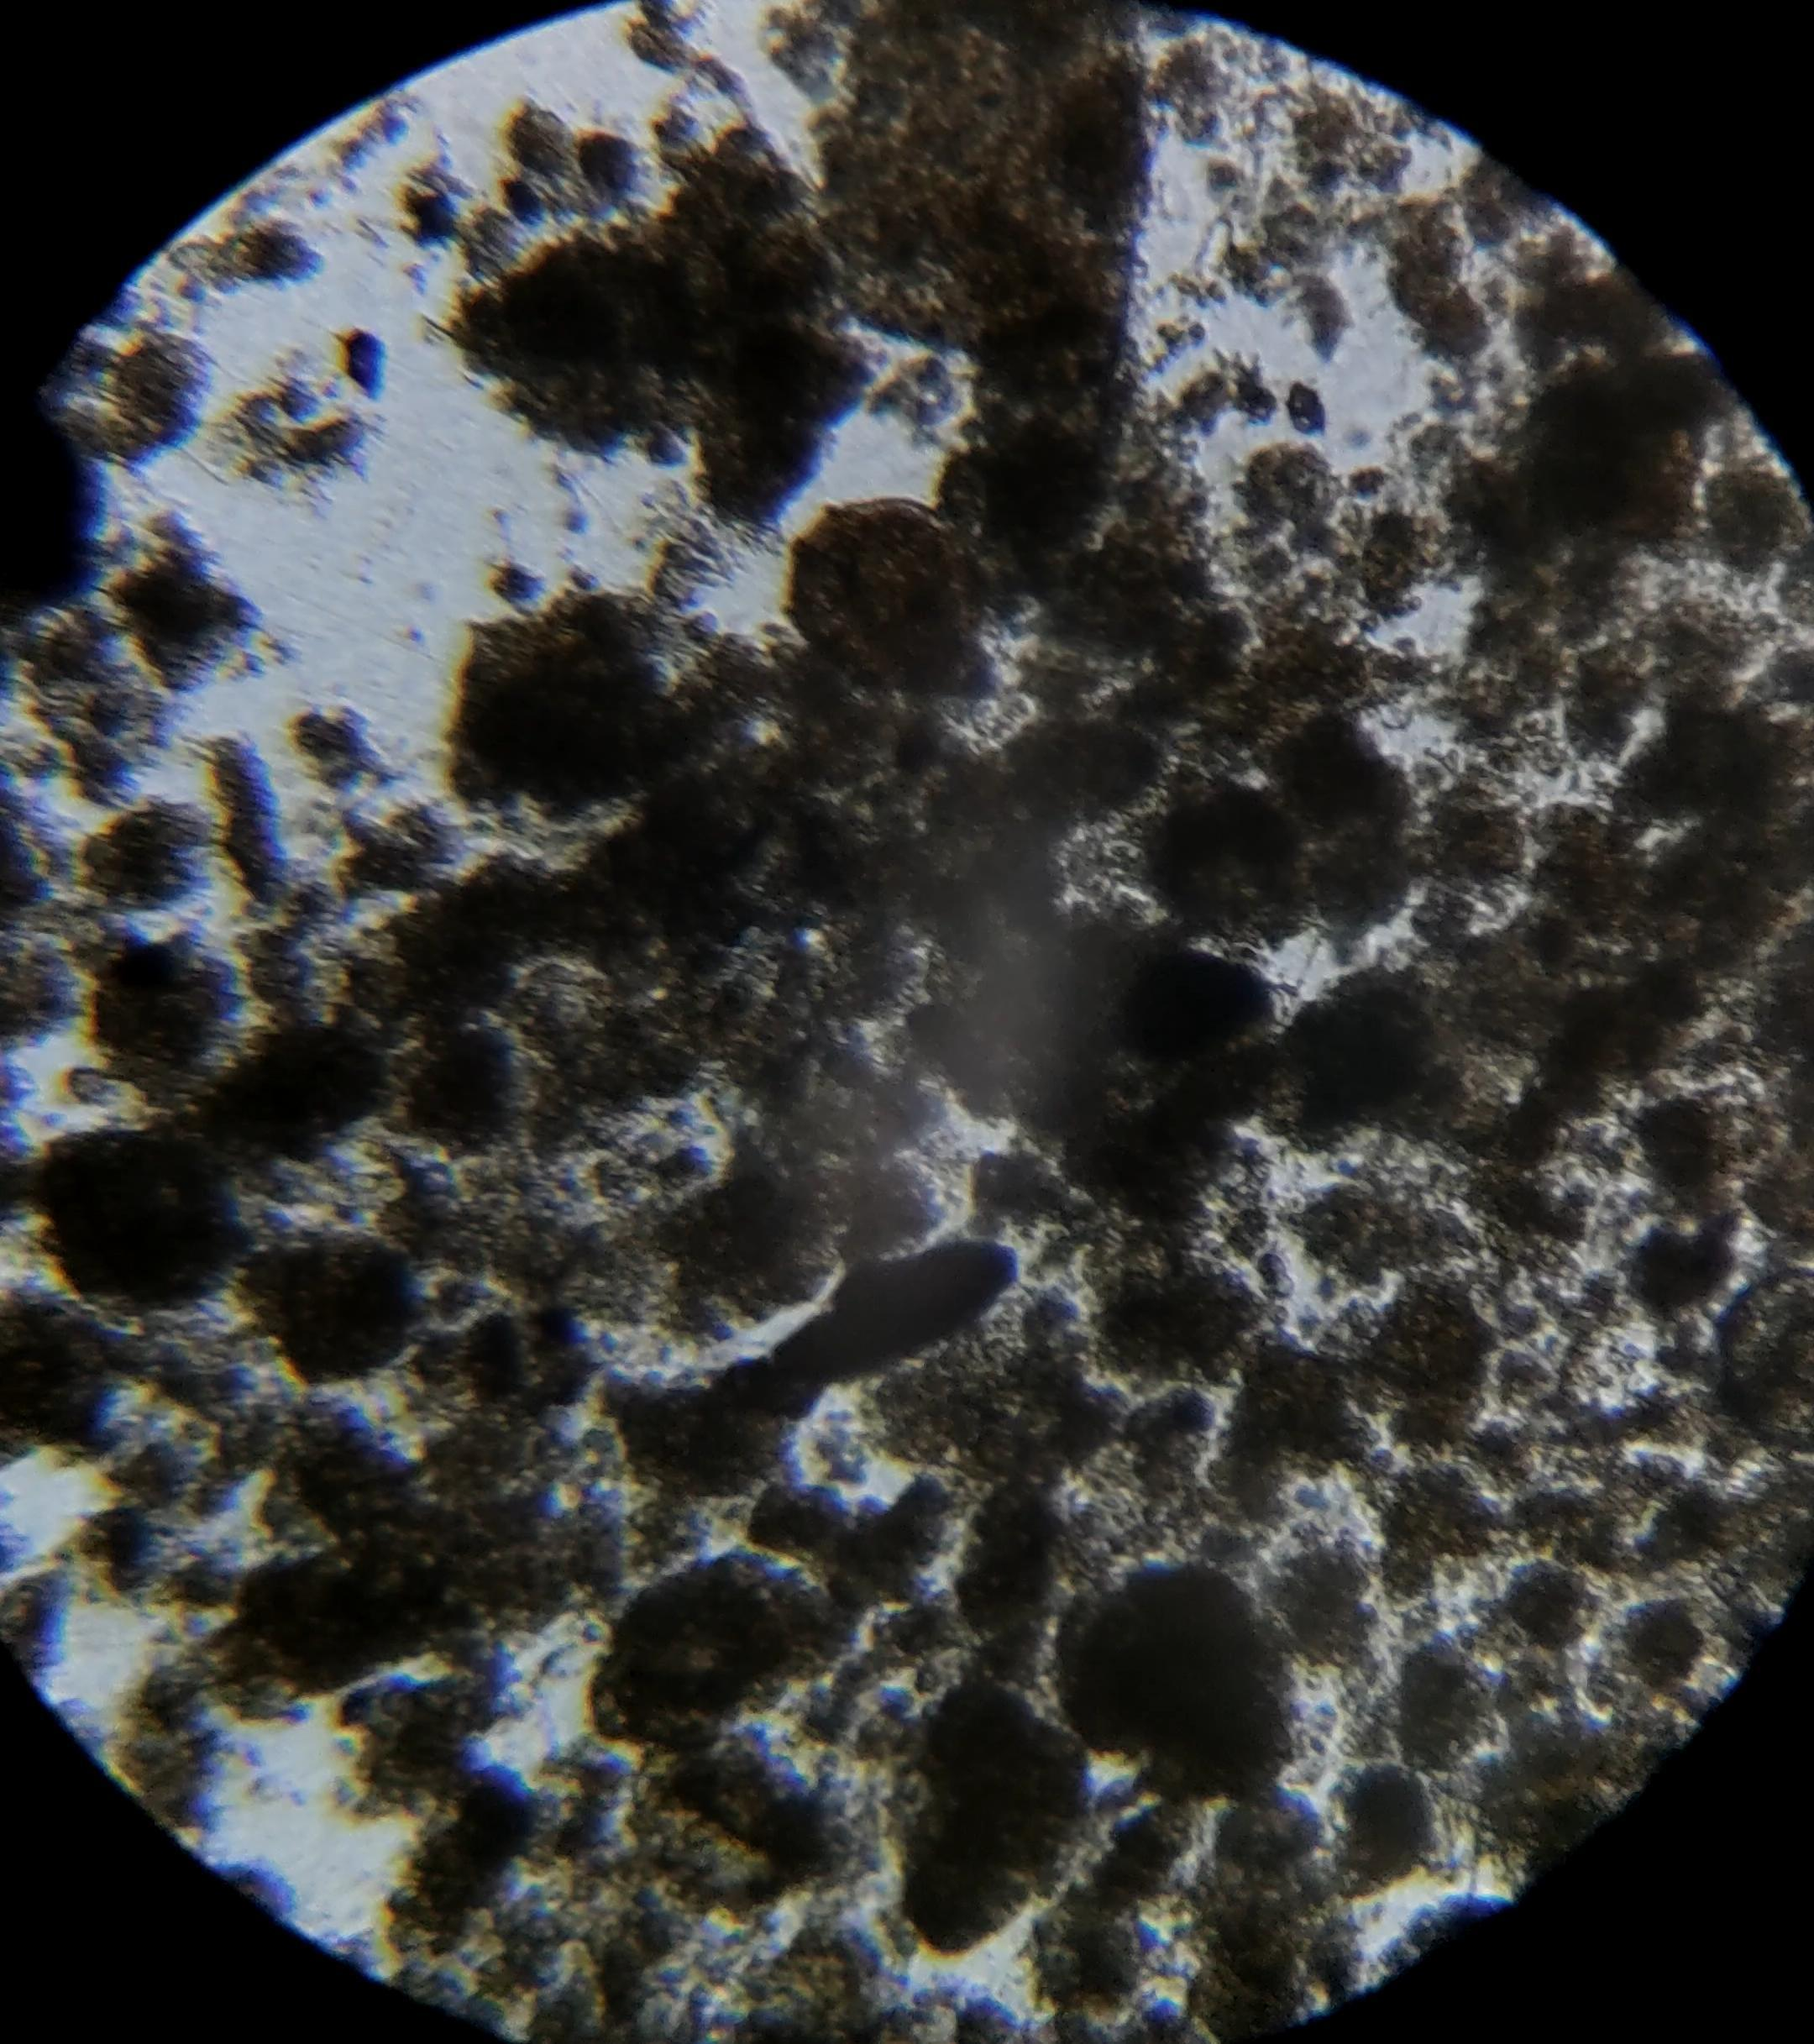Arcella: (795, 501, 979, 692), (1721, 1270, 1814, 1454)
